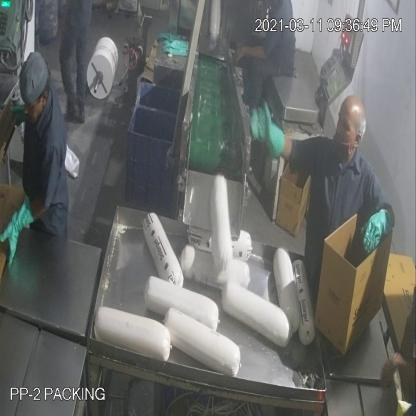glove: (358, 198, 402, 262), (252, 102, 284, 170)
no_glove: (228, 32, 272, 64)
